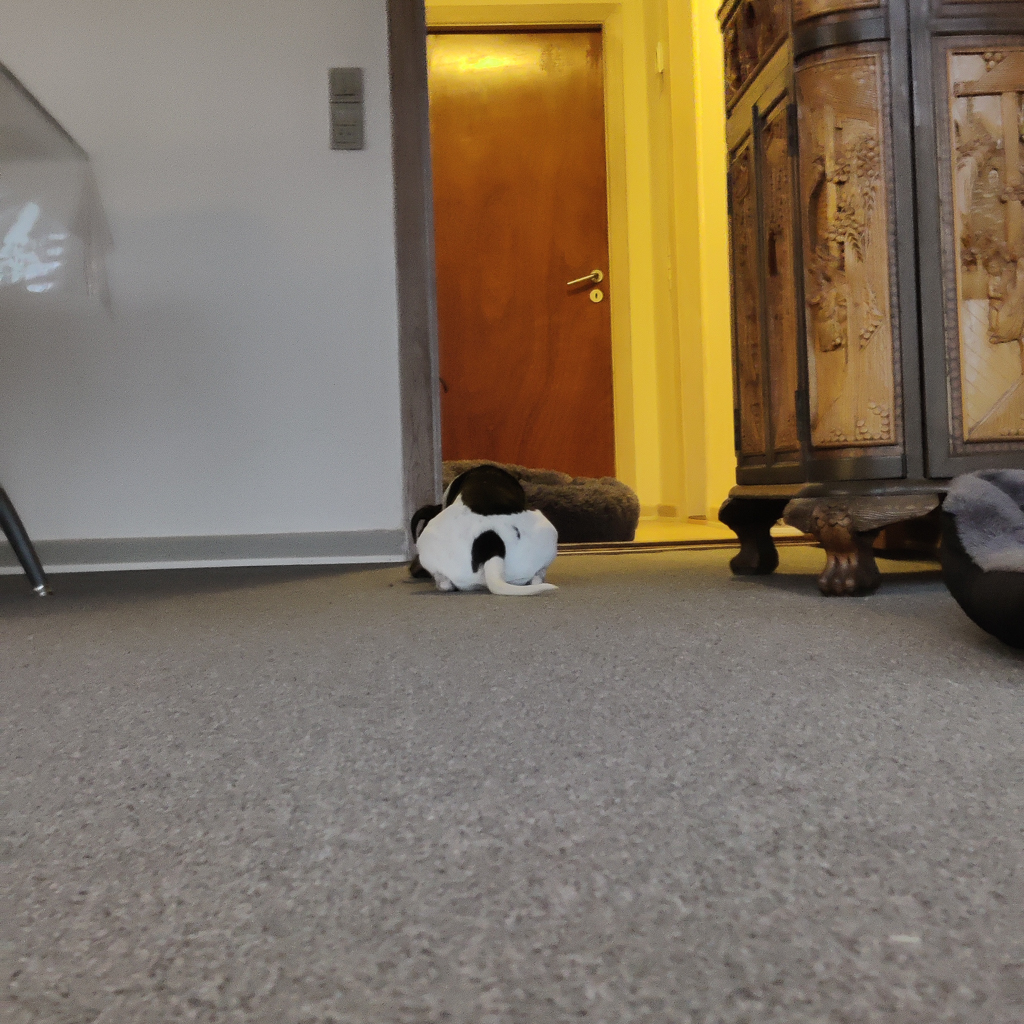Dog: (385, 456, 575, 611)
